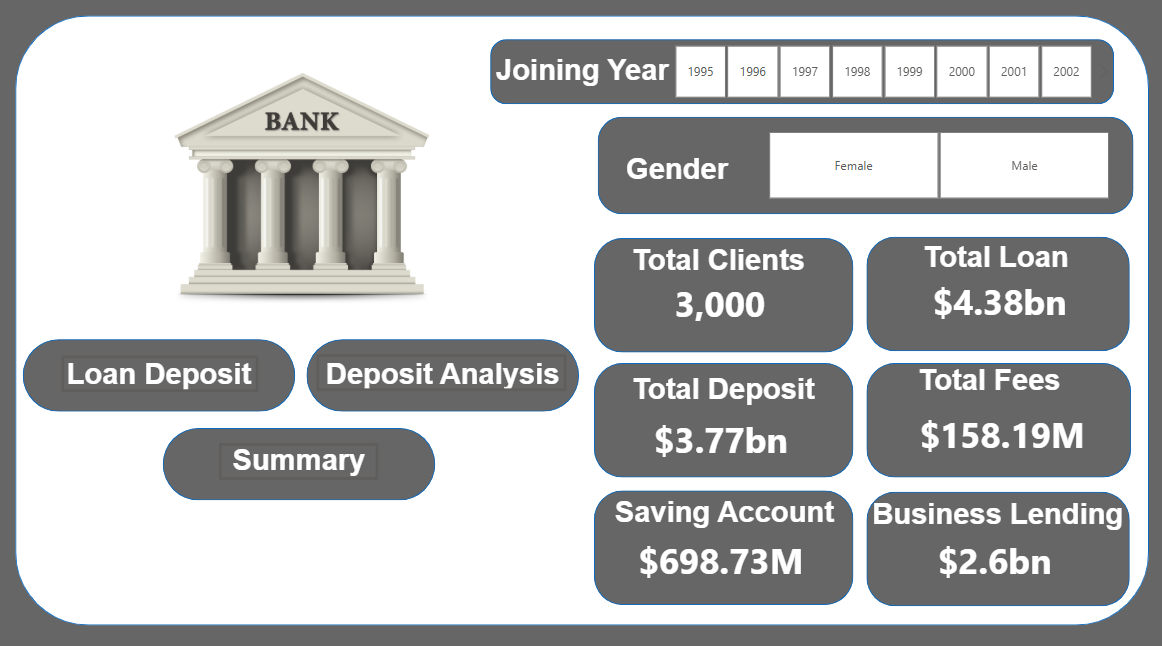

Layout of this report page (visuals, bound fields, positions):
{"tool":"powerbi","page":{"name":"Home","canvas":[1280,720],"ordinal":0},"visuals":[{"type":"shape","box":[17.8,24.7,1244.6,669.6],"z":0},{"type":"image","box":[119.4,67.2,419.9,292.3],"z":1000},{"type":"shape","box":[26.1,380.1,299.1,79.6],"z":2000},{"type":"textbox","box":[54.9,395.2,241.5,64.5],"z":3000},{"type":"shape","box":[337.6,380.1,299.1,79.6],"z":4000},{"type":"textbox","box":[337.6,395.2,299.1,71.4],"z":5000},{"type":"shape","box":[179.8,477.5,299.1,79.6],"z":6000},{"type":"textbox","box":[179.8,489.9,299.1,78.2],"z":7000},{"type":"shape","box":[539.3,50.8,684.7,71.4],"z":8000},{"type":"shape","box":[657.5,135.8,588.1,106.9],"z":9000},{"type":"shape","box":[653.2,268.8,284.7,125.7],"z":10000},{"type":"shape","box":[952.3,267.3,289,125.7],"z":11000},{"type":"shape","box":[653.2,406.1,284.7,125.7],"z":12000},{"type":"shape","box":[653.2,546.2,284.7,125.7],"z":13000},{"type":"shape","box":[952.3,406.1,290.5,125.7],"z":14000},{"type":"shape","box":[952.3,547.7,289,125.7],"z":15000},{"type":"slicer","fields":{"Values":["Sheet1.Joined Bank.Variation.Date Hierarchy.Year"]},"box":[716.7,50.6,507.2,70.8],"z":16000},{"type":"textbox","box":[540.4,62.1,300.6,67.9],"z":17000},{"type":"slicer","fields":{"Values":["Sheet1.Sex"]},"box":[819.3,145.9,423.4,86.7],"z":18000},{"type":"textbox","box":[683.5,170.5,135.8,62.1],"z":19000},{"type":"textbox","box":[690.7,270.2,206.6,60.7],"z":20000},{"type":"textbox","box":[1010.1,267.3,182.1,63.6],"z":21000},{"type":"textbox","box":[690.7,411.8,226.9,65],"z":22000},{"type":"textbox","box":[1004.3,401.7,200.9,57.8],"z":23000},{"type":"textbox","box":[670.5,547.7,300.6,70.8],"z":24000},{"type":"textbox","box":[953.7,549.1,300.6,57.8],"z":25000},{"type":"card","fields":{"Values":["Measure.Total Clients"]},"box":[630,300.6,312.1,79.5],"z":26000},{"type":"card","fields":{"Values":["Measure.Total Loan"]},"box":[942.2,299.1,312.1,79.5],"z":27000},{"type":"card","fields":{"Values":["Measure.Total Deposit"]},"box":[637.3,449.4,312.1,79.5],"z":28000},{"type":"card","fields":{"Values":["Measure.Total Fees"]},"box":[945,445.1,312.1,79.5],"z":29000},{"type":"card","fields":{"Values":["Measure.Savings Account"]},"box":[637.3,583.8,312.1,79.5],"z":30000},{"type":"card","fields":{"Values":["Measure.Business Lending"]},"box":[937.8,583.8,312.1,79.5],"z":31000},{"type":"actionButton","box":[68,398.4,216.2,40.1],"z":32000},{"type":"actionButton","box":[348.3,395.9,274.6,40.5],"z":33000},{"type":"actionButton","box":[241.3,494.2,174.8,40.5],"z":34000}]}

Visuals, with their boxes in screenshot pixels (x1, y1, x2, y2), scaled from the page's 1280x720 canvas onto the 1162x646 screenshot:
shape: crop(16, 22, 1146, 623)
image: crop(108, 60, 490, 323)
shape: crop(24, 341, 295, 412)
textbox: crop(50, 355, 269, 412)
shape: crop(306, 341, 578, 412)
textbox: crop(306, 355, 578, 419)
shape: crop(163, 428, 435, 500)
textbox: crop(163, 440, 435, 510)
shape: crop(490, 46, 1111, 110)
shape: crop(597, 122, 1131, 218)
shape: crop(593, 241, 851, 354)
shape: crop(865, 240, 1127, 353)
shape: crop(593, 364, 851, 477)
shape: crop(593, 490, 851, 603)
shape: crop(865, 364, 1128, 477)
shape: crop(865, 491, 1127, 604)
slicer - Sheet1.Joined Bank.Variation.Date Hierarchy.Year: crop(651, 45, 1111, 109)
textbox: crop(491, 56, 763, 117)
slicer - Sheet1.Sex: crop(744, 131, 1128, 209)
textbox: crop(620, 153, 744, 209)
textbox: crop(627, 242, 815, 297)
textbox: crop(917, 240, 1082, 297)
textbox: crop(627, 369, 833, 428)
textbox: crop(912, 360, 1094, 412)
textbox: crop(609, 491, 882, 555)
textbox: crop(866, 493, 1139, 545)
card - Measure.Total Clients: crop(572, 270, 855, 341)
card - Measure.Total Loan: crop(855, 268, 1139, 340)
card - Measure.Total Deposit: crop(579, 403, 862, 475)
card - Measure.Total Fees: crop(858, 399, 1141, 471)
card - Measure.Savings Account: crop(579, 524, 862, 595)
card - Measure.Business Lending: crop(851, 524, 1135, 595)
actionButton: crop(62, 357, 258, 393)
actionButton: crop(316, 355, 565, 392)
actionButton: crop(219, 443, 378, 480)
